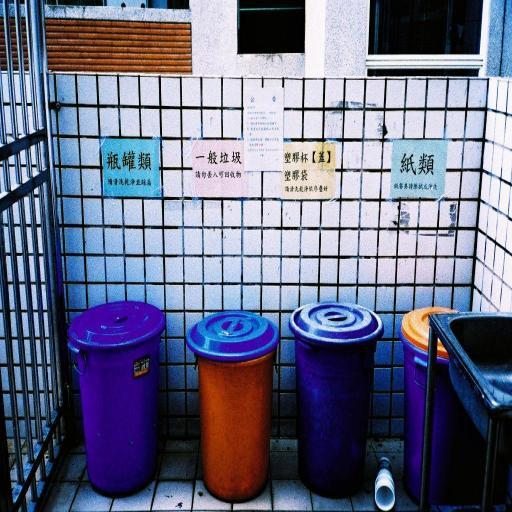trash-can: (64, 288, 171, 486)
